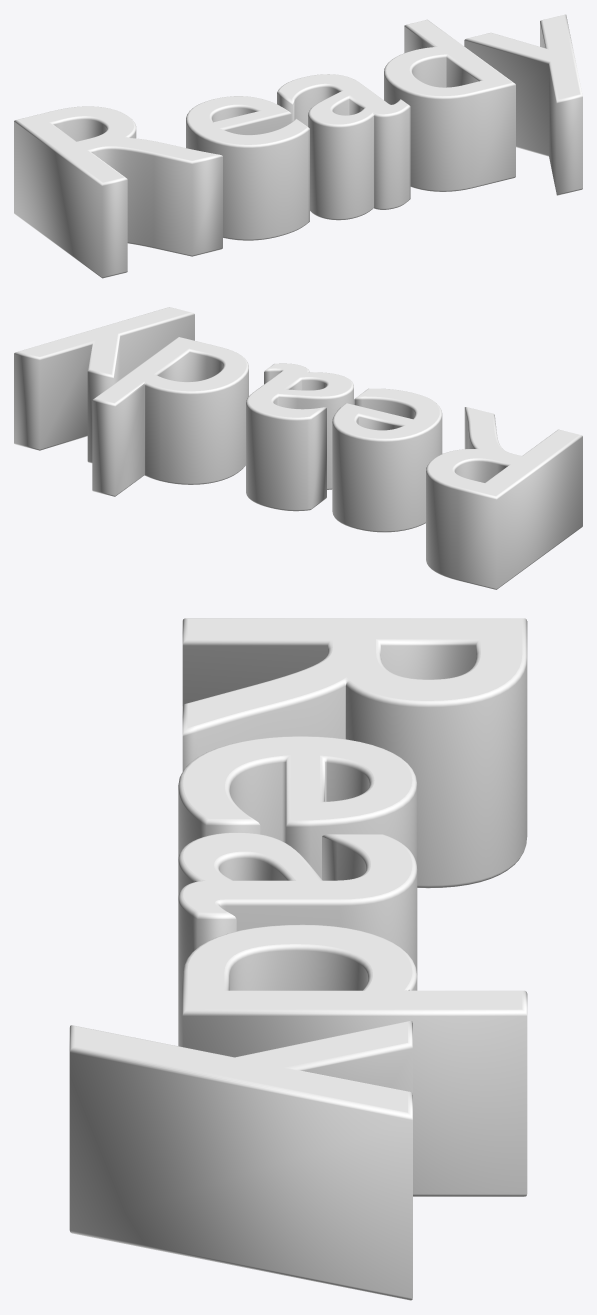
The model's file is rReady.obj.
3 renders of one model, top to bottom at view 1: azimuth 30°, elevation 25°; view 2: azimuth 150°, elevation 25°; view 3: azimuth 270°, elevation 25°, orthographic. The views are drawn at different scales.
Parts seen in each view (by area): view 1: テキスト; view 2: テキスト; view 3: テキスト.
Part boxes in pixels (x1,y1,x2,y2): テキスト: [14, 14, 582, 278]; テキスト: [14, 307, 582, 589]; テキスト: [69, 618, 527, 1300].
Bounding box in the file's own units: 2.41 × 0.42 × 0.932.
Materials: 1 (1 with a texture image).
